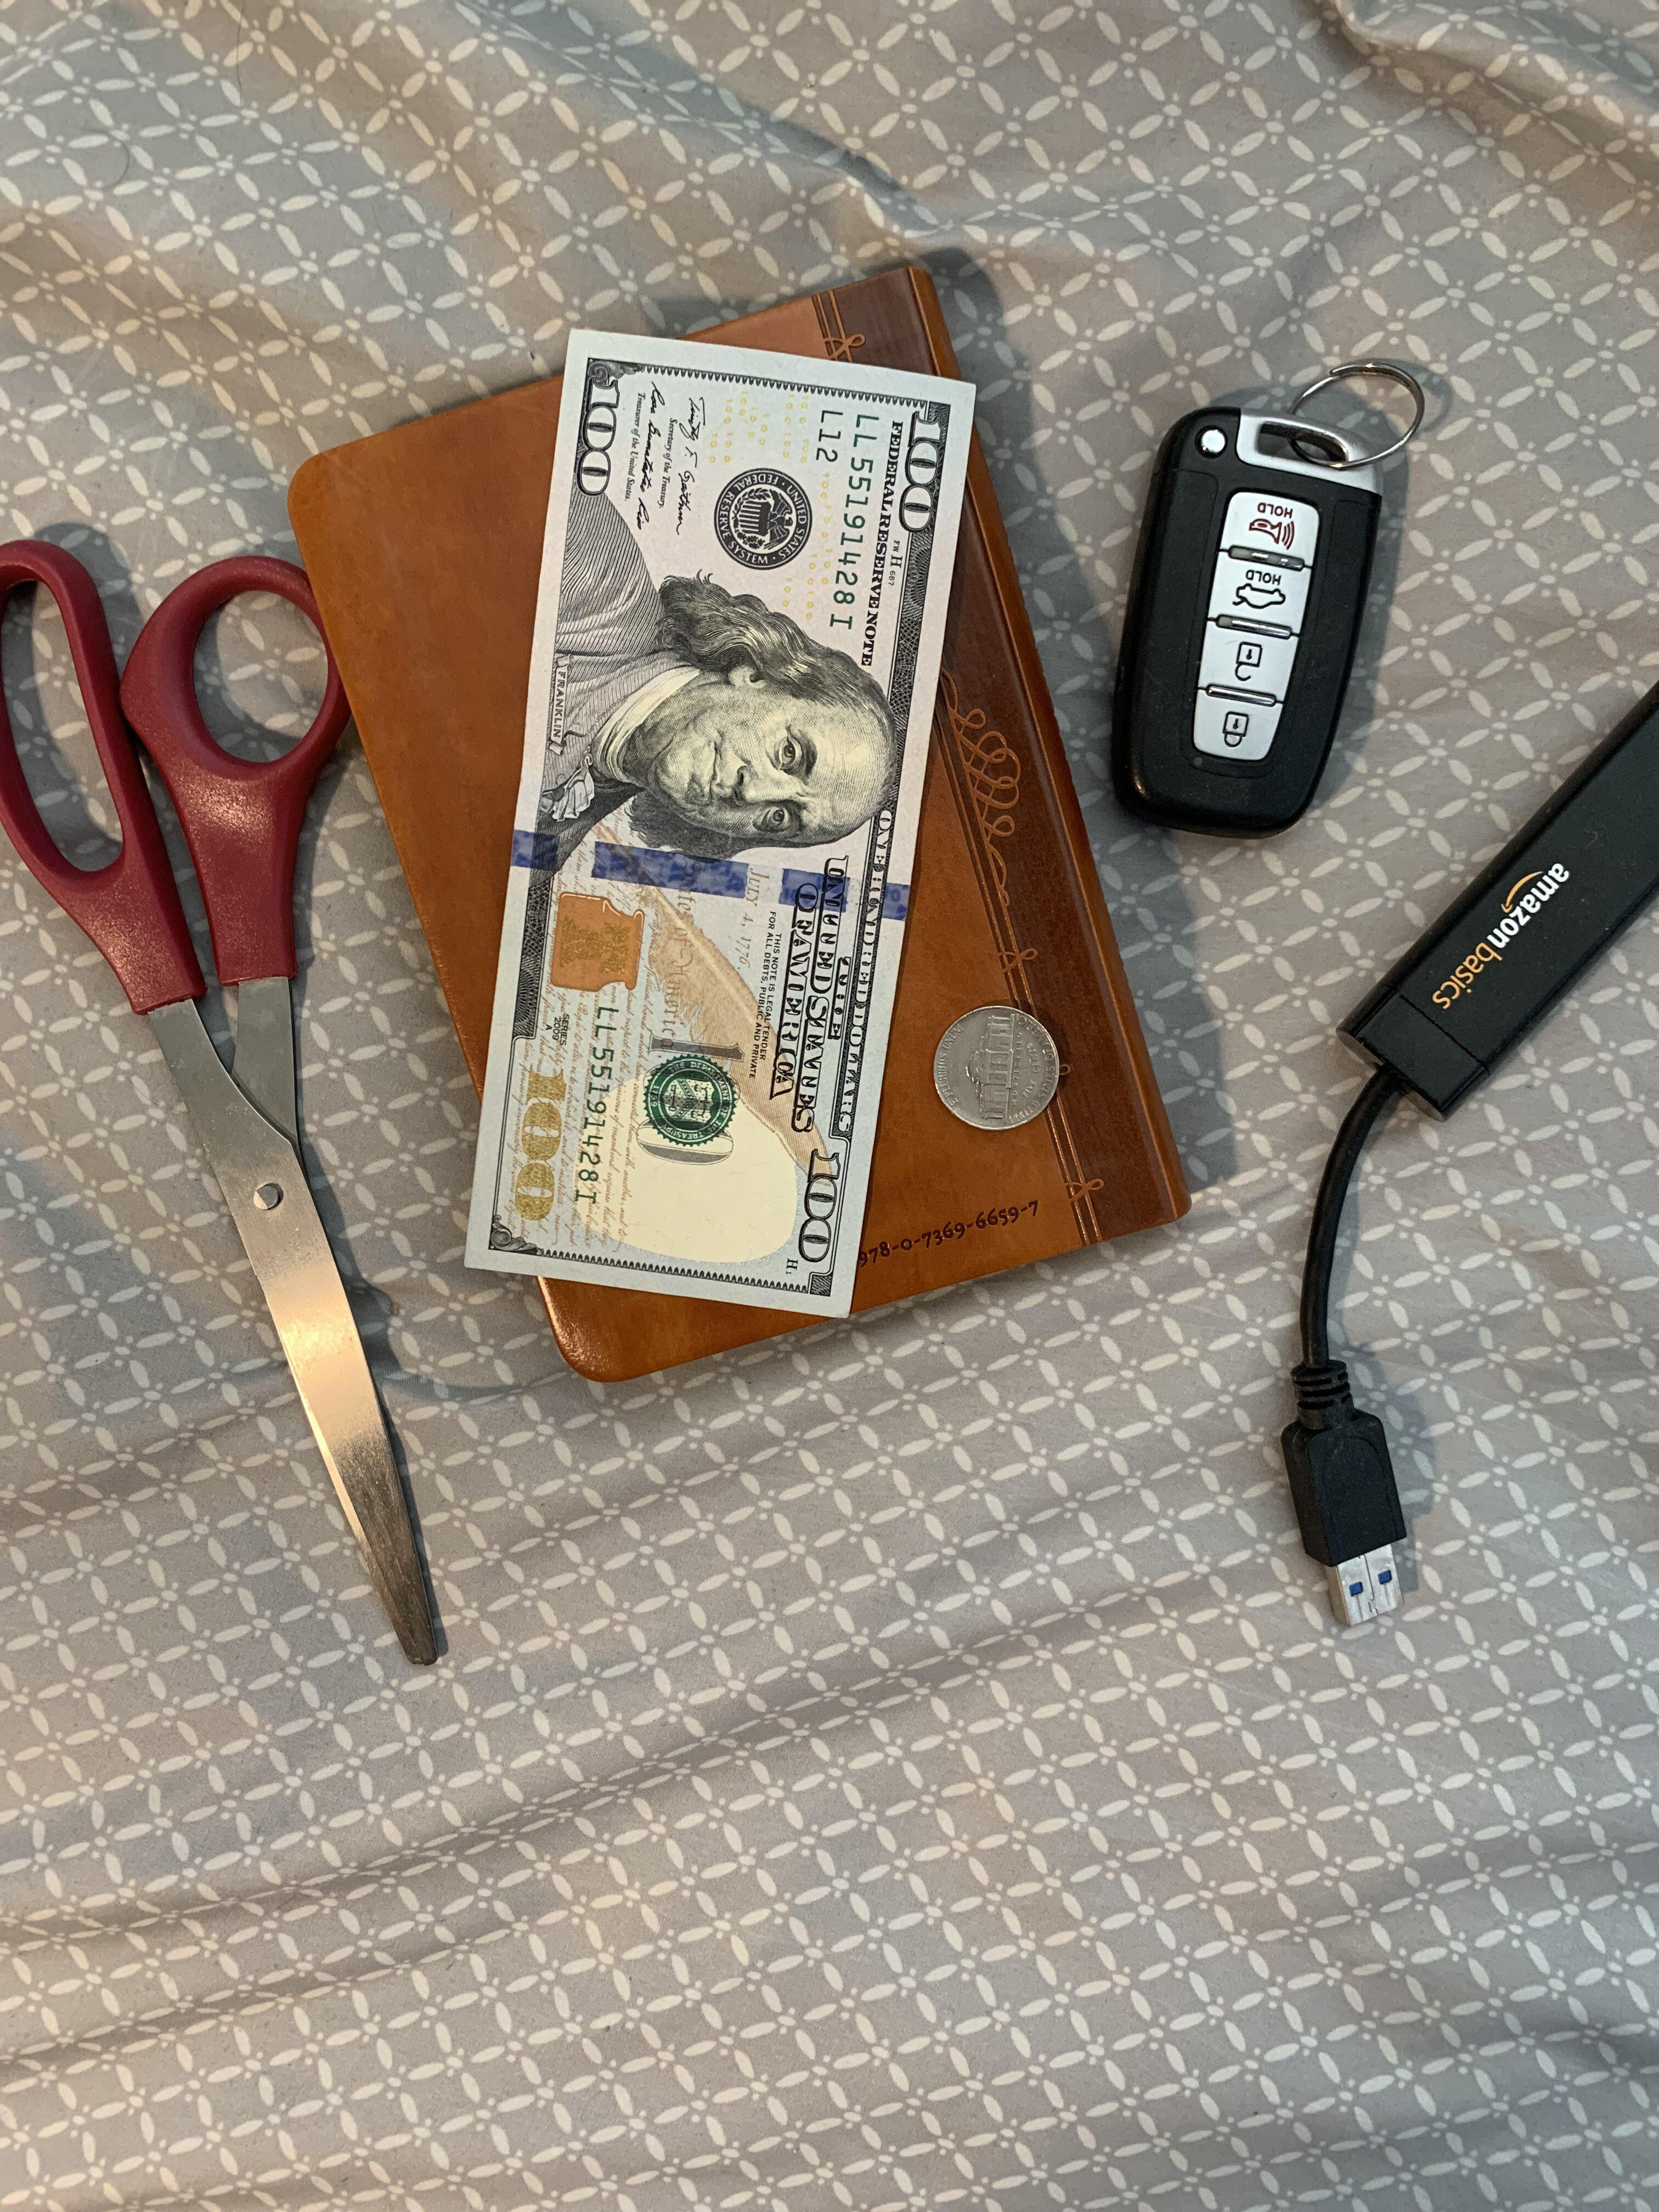HundredBill: (401, 307, 993, 1331)
Nickel: (924, 981, 1080, 1172)
